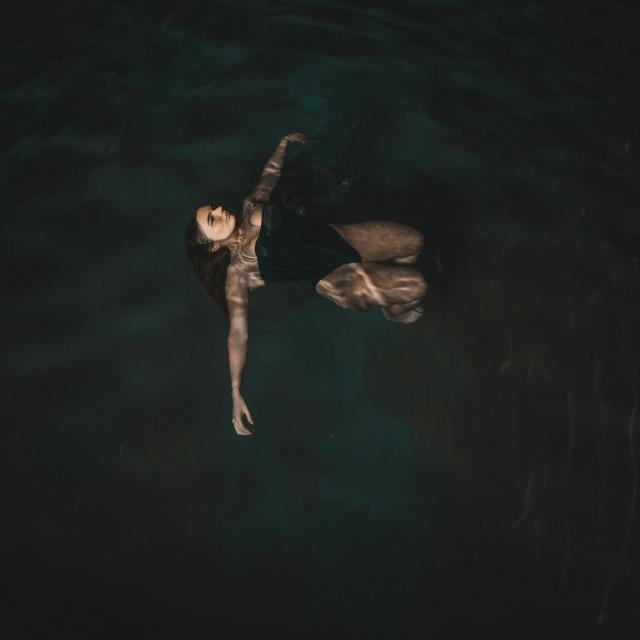lie: (181, 185, 468, 350)
